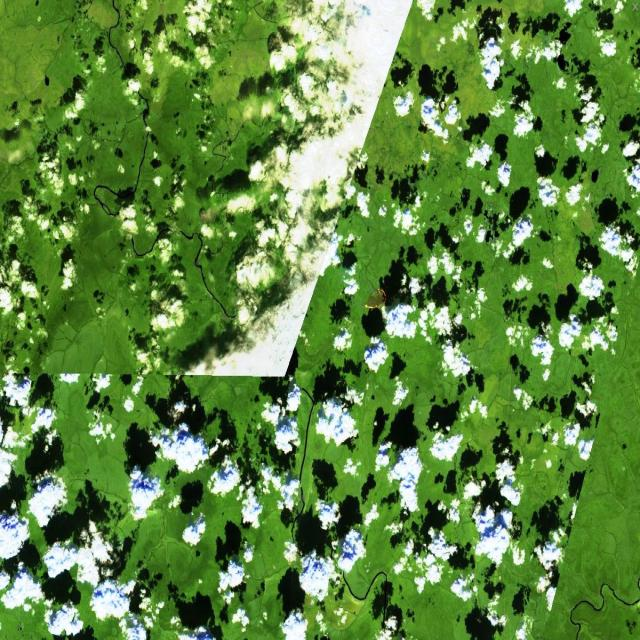fire: (362, 282, 391, 315)
